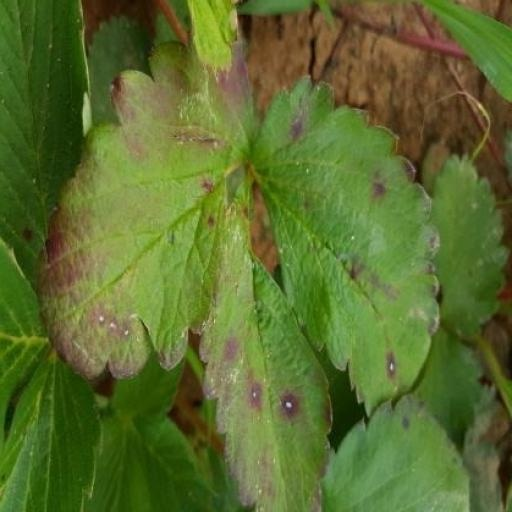Leaf Spot: (252, 130, 476, 487), (70, 91, 264, 437), (178, 0, 313, 340), (419, 219, 511, 511), (43, 0, 191, 120)
